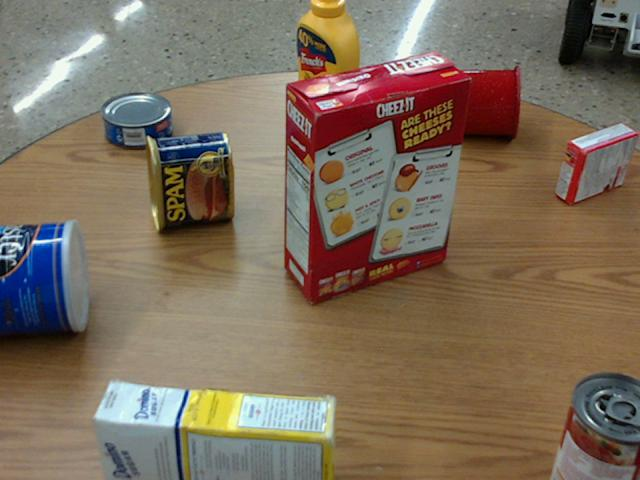cracker_box: (283, 50, 469, 301)
gelatin_box: (556, 124, 638, 205)
master_chef_can: (0, 219, 90, 334)
mug: (451, 63, 520, 137)
mustard_bottle: (296, 0, 358, 140)
potted_meat_can: (144, 129, 232, 228)
sugar_box: (89, 382, 335, 479)
tomato_soup_can: (550, 370, 639, 479)
tuna_fish_can: (102, 90, 172, 146)
